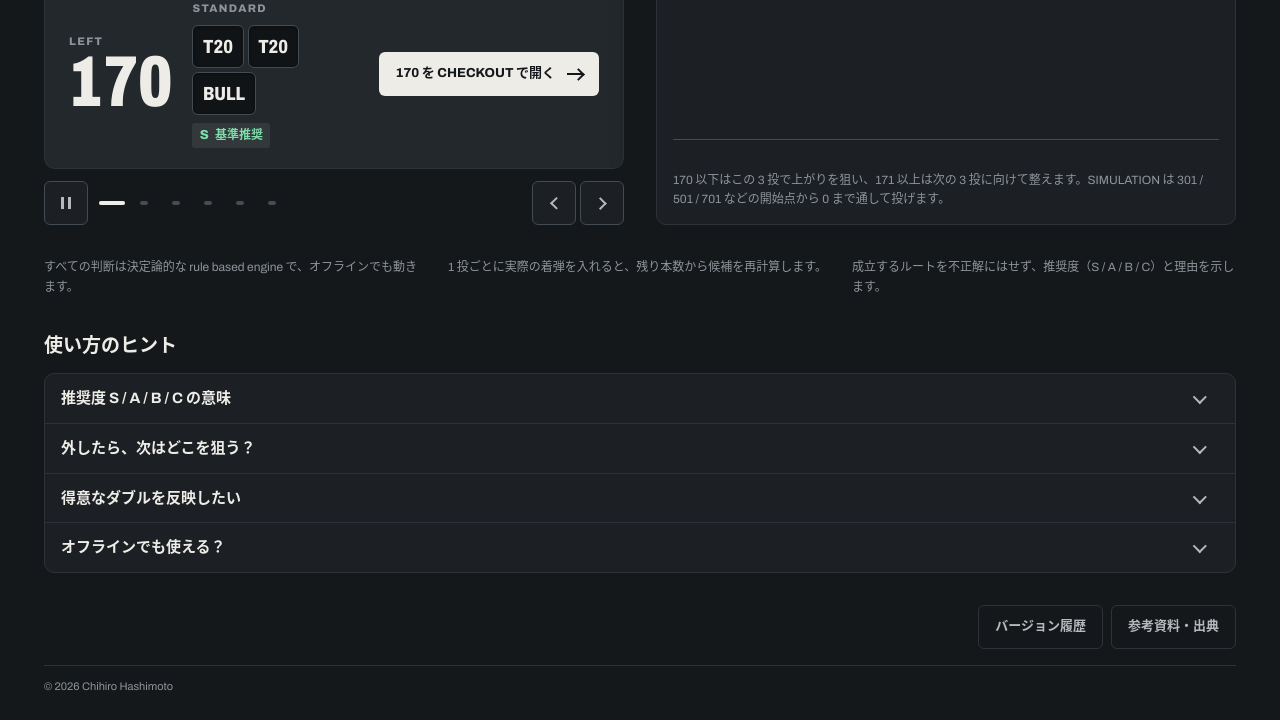
バージョン履歴 › ボタンを押すと見出しと複数の履歴が並ぶ
(page scrolled)
Click the button with test id "home-version-history".
click(1041, 627)  # box top-left (978, 605), bottom-right (1103, 649)
(page scrolled)
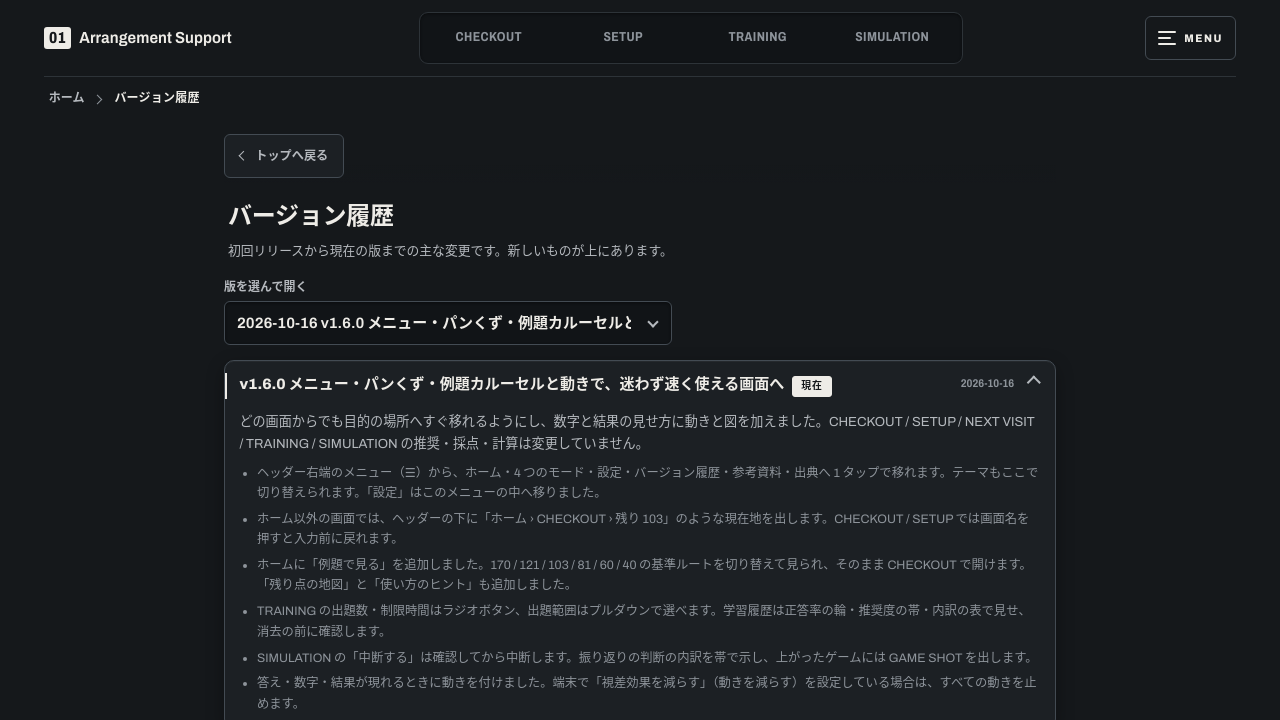
Result: the heading "バージョン履歴" is shown at top-left (228, 203), bottom-right (394, 229)
Result: the number of elements with test id "version-history-item" is 30
